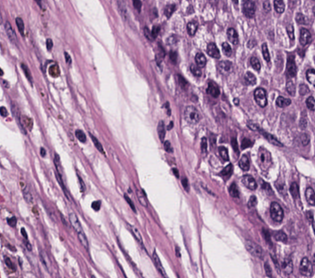nucleus: (248, 123, 282, 145), (257, 147, 271, 170), (270, 202, 283, 222), (129, 225, 142, 245), (184, 106, 199, 123), (91, 135, 104, 153), (69, 213, 81, 232), (242, 0, 255, 17), (254, 88, 266, 106), (242, 175, 256, 189), (287, 55, 296, 76), (299, 28, 310, 45), (207, 81, 219, 96), (227, 28, 238, 44), (124, 195, 135, 211), (117, 1, 127, 18), (78, 231, 88, 248), (207, 43, 219, 57), (54, 153, 62, 174), (220, 164, 232, 178), (305, 187, 314, 205), (276, 96, 290, 107), (239, 155, 249, 170), (137, 190, 147, 205), (77, 173, 85, 191), (218, 61, 231, 72), (244, 71, 255, 84), (274, 231, 287, 242), (187, 21, 197, 35), (218, 146, 228, 160), (289, 182, 298, 197), (190, 64, 201, 76), (195, 53, 205, 66), (250, 57, 260, 70), (177, 75, 187, 88), (262, 43, 269, 61), (286, 80, 295, 94), (157, 121, 164, 139), (229, 183, 238, 197), (164, 5, 175, 16), (274, 0, 284, 12), (49, 64, 59, 76), (306, 69, 314, 84), (75, 129, 85, 141), (306, 211, 313, 228), (222, 42, 231, 55), (231, 138, 238, 154), (144, 27, 152, 40), (306, 96, 314, 109), (241, 138, 251, 148), (299, 134, 308, 145), (286, 25, 293, 39), (296, 13, 305, 23), (299, 84, 308, 94), (151, 26, 159, 37), (64, 52, 71, 64), (91, 201, 100, 210), (133, 0, 141, 10), (248, 196, 256, 206), (182, 177, 188, 190), (169, 51, 176, 62), (201, 137, 206, 152), (46, 38, 52, 50), (262, 182, 270, 191), (263, 229, 269, 241), (164, 141, 171, 151), (263, 1, 269, 10), (40, 147, 45, 156), (173, 168, 178, 177), (211, 134, 214, 144)
